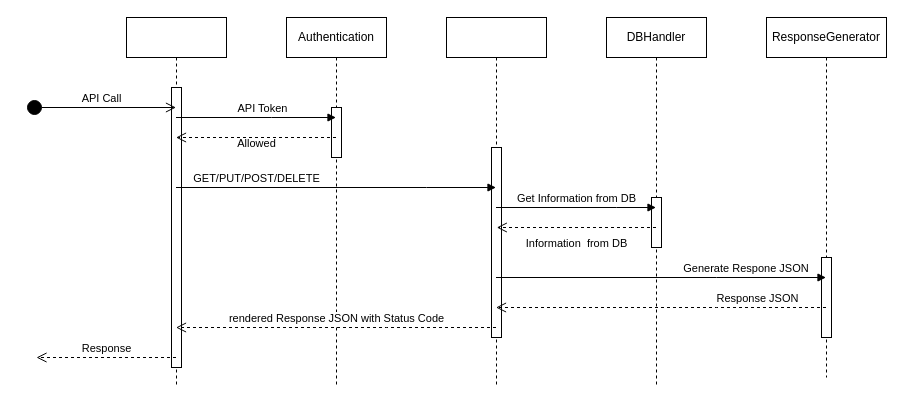
Some shapes in this 904 by 405 pixel diagram are drawn without their labels. Each missing label, with the box of its shape:
app.py: (126, 16, 226, 388)
ClassHandler: (446, 16, 546, 388)
